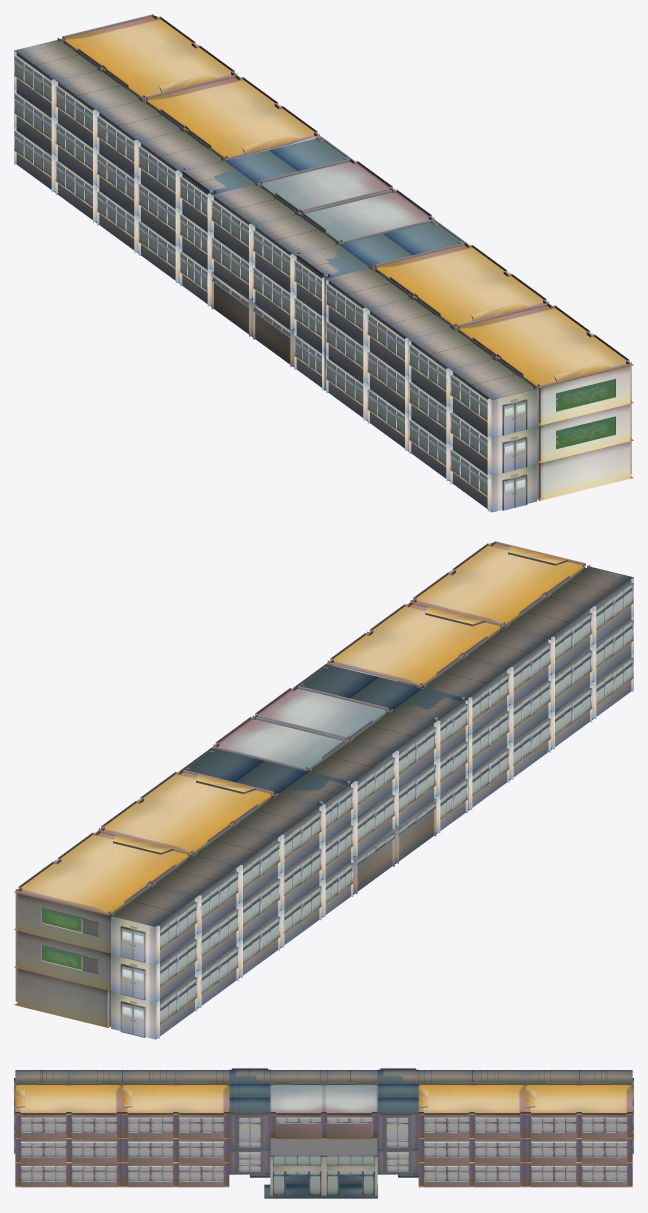
Rendered from snece_1.fbx.
3 views of the same model, one above another, from view 1: azimuth 30°, elevation 25°; view 2: azimuth 150°, elevation 25°; view 3: azimuth 270°, elevation 25° (orthographic). The views are drawn at different scales.
Visible parts, largest first — view 1: sence; view 2: sence; view 3: sence.
Part boxes in pixels (x1,y1,x2,y2): sence: (14,14,633,512); sence: (14,541,633,1039); sence: (14,1068,633,1198).
Size of the model in its own units: 15 by 9.28 by 69.5.
15 materials, 15 textured.
